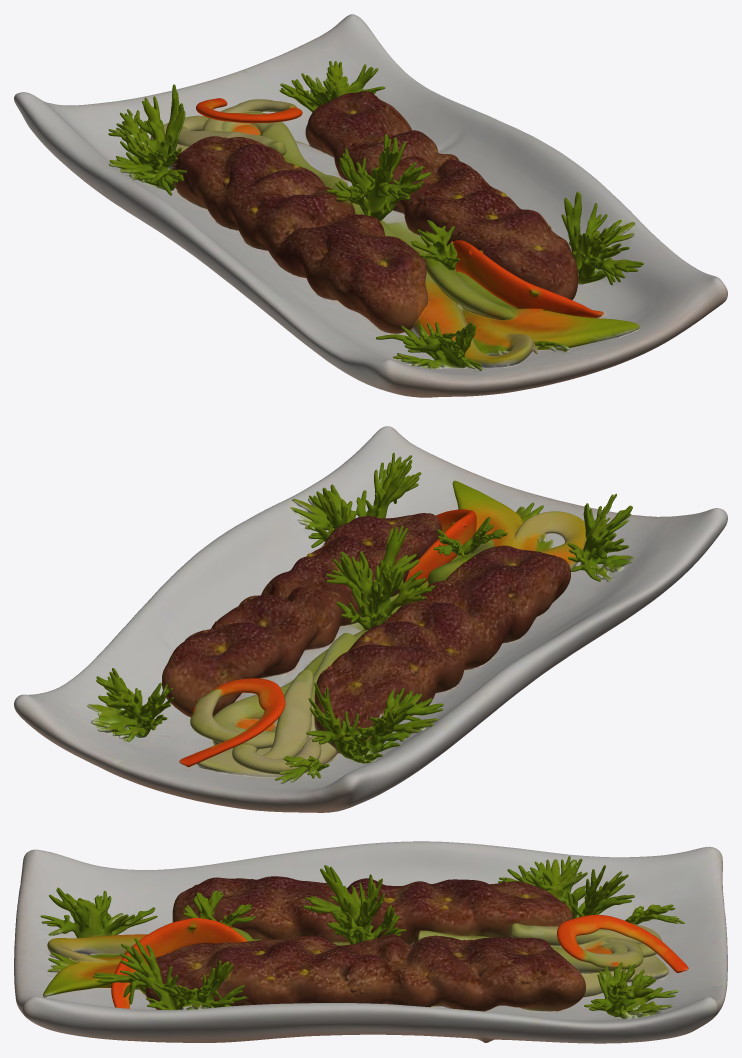
Rendered from Beef Seekh Kebab.glb.
3 renders of one model, top to bottom at view 1: azimuth 30°, elevation 25°; view 2: azimuth 150°, elevation 25°; view 3: azimuth 270°, elevation 25°, orthographic. The views are drawn at different scales.
Visible parts, largest first — view 1: tripo_node_a8d8392f-beca-4ca3-bfcc-186a09243bbe; view 2: tripo_node_a8d8392f-beca-4ca3-bfcc-186a09243bbe; view 3: tripo_node_a8d8392f-beca-4ca3-bfcc-186a09243bbe.
Boxes of the visible parts, bbox=[...] form: tripo_node_a8d8392f-beca-4ca3-bfcc-186a09243bbe: bbox=[14, 14, 727, 397]; tripo_node_a8d8392f-beca-4ca3-bfcc-186a09243bbe: bbox=[14, 426, 727, 812]; tripo_node_a8d8392f-beca-4ca3-bfcc-186a09243bbe: bbox=[14, 841, 727, 1043].
Size of the model in its own units: 0.5528 by 0.2053 by 1.
Materials: 1 (1 with a texture image).
